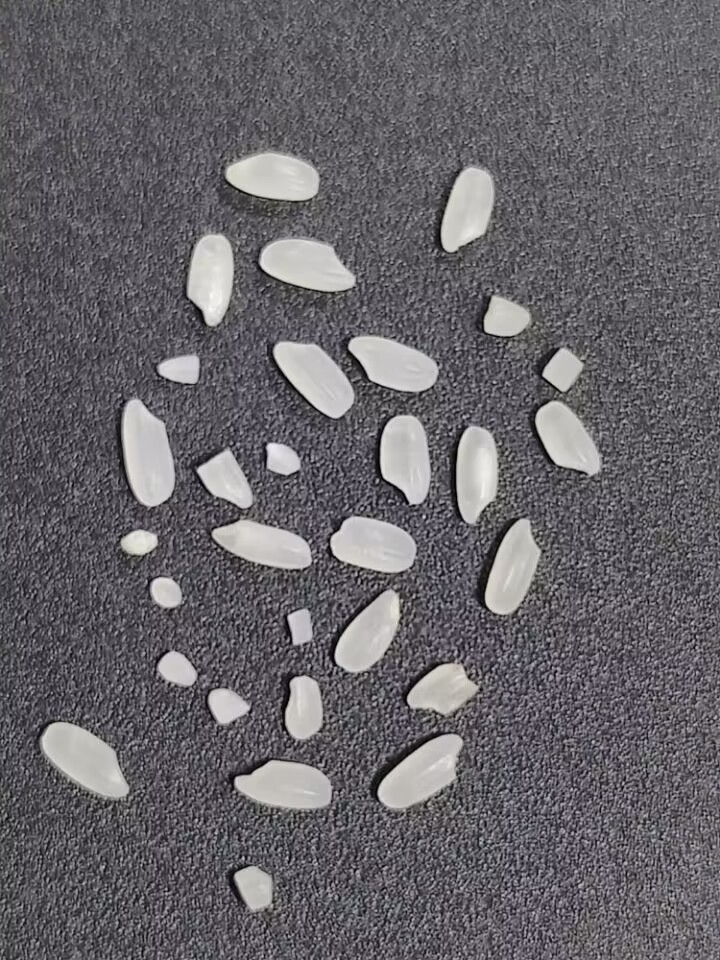broken: (406, 658, 482, 716), (193, 446, 256, 512), (282, 670, 327, 744), (540, 344, 590, 394), (481, 291, 532, 339), (206, 684, 257, 730), (152, 646, 201, 691), (233, 862, 274, 915), (153, 348, 204, 389), (256, 440, 306, 478), (144, 572, 187, 614), (117, 523, 163, 562), (284, 604, 318, 650)
rice: (268, 338, 362, 422), (117, 393, 182, 512), (38, 721, 131, 801), (373, 409, 443, 508), (340, 330, 447, 394), (332, 581, 403, 677), (251, 235, 358, 297), (377, 734, 463, 811), (219, 147, 325, 208), (180, 232, 239, 333), (533, 399, 605, 479), (231, 757, 334, 812), (485, 517, 541, 618), (328, 515, 418, 575), (209, 518, 314, 569), (438, 163, 496, 254), (454, 420, 503, 527)
